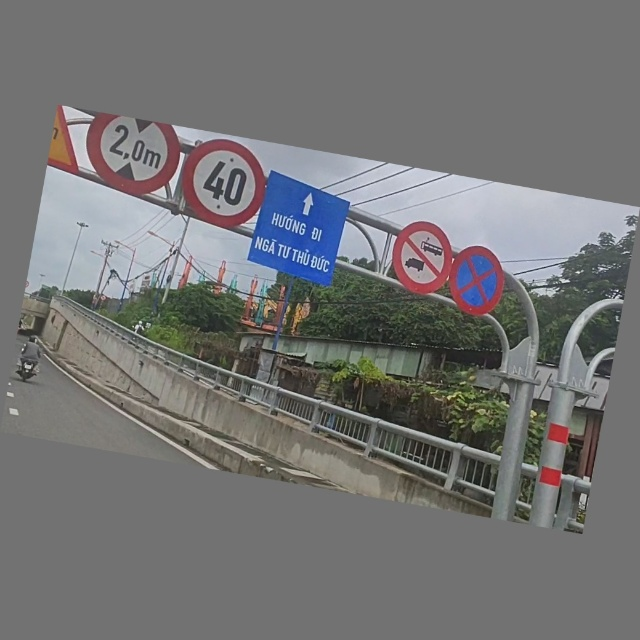P.107: (386, 218, 458, 300)
P.117*: (80, 112, 186, 201)
P.127*40: (177, 135, 272, 235)
P.130: (446, 243, 514, 321)
